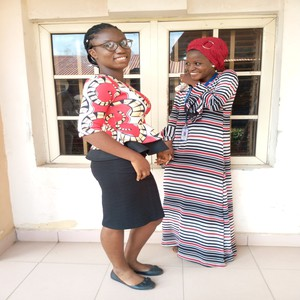Fulokoja_female_student: (81, 25, 159, 286), (175, 39, 236, 255)
